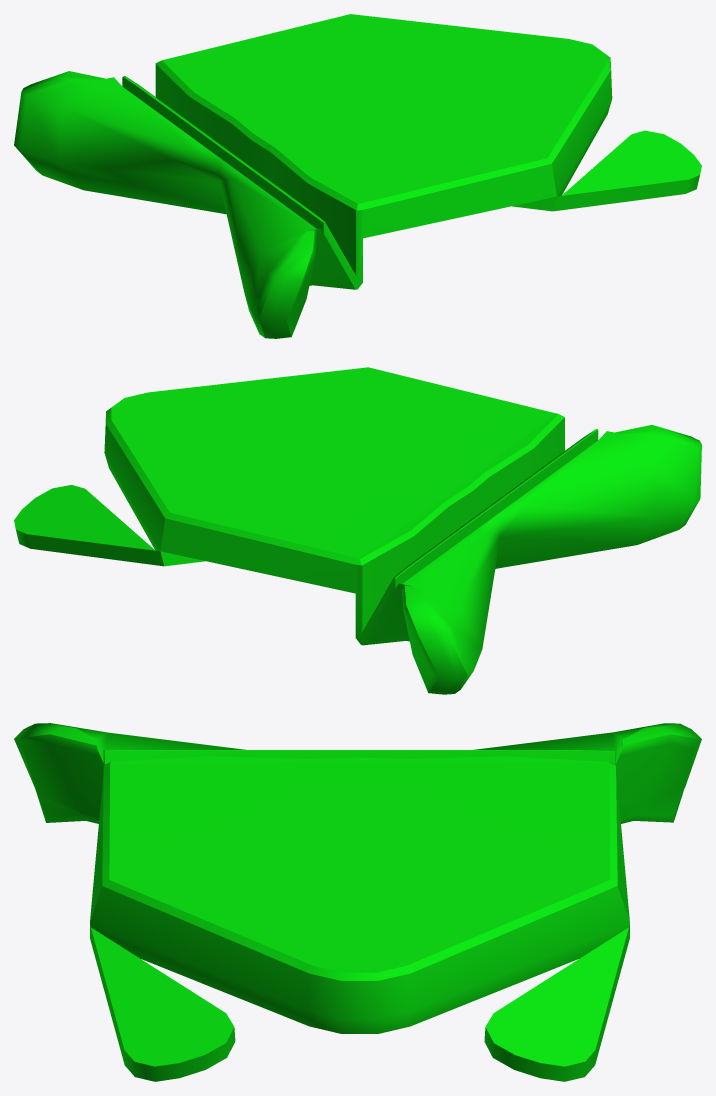
The model's file is SM_Frog_4.fbx.
3 renders of one model, top to bottom at view 1: azimuth 30°, elevation 25°; view 2: azimuth 150°, elevation 25°; view 3: azimuth 270°, elevation 25°, orthographic. The views are drawn at different scales.
Parts seen in each view (by area): view 1: pasted__Frog; view 2: pasted__Frog; view 3: pasted__Frog.
Part boxes in pixels (x1,y1,x2,y2): pasted__Frog: [14, 14, 701, 338]; pasted__Frog: [14, 367, 701, 694]; pasted__Frog: [14, 723, 701, 1081].
Bounding box in the file's own units: 2.66 × 0.5006 × 2.55.
